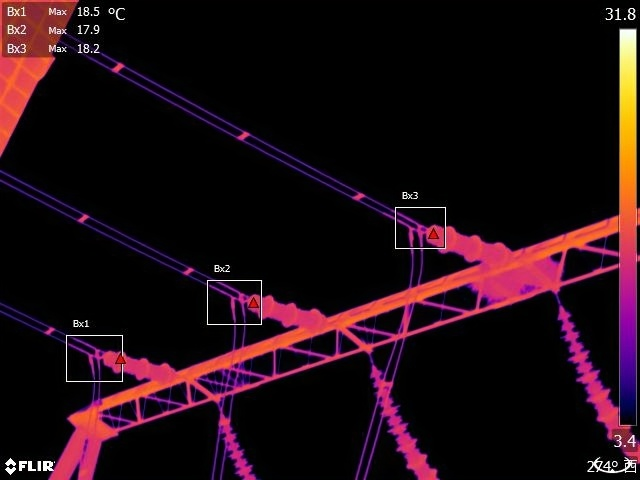clamp: (400, 216, 429, 244), (222, 287, 248, 312), (83, 342, 106, 366)
insulator: (557, 299, 640, 465), (365, 359, 438, 480), (425, 221, 515, 263), (219, 408, 270, 480), (245, 286, 328, 330), (102, 344, 183, 383)
